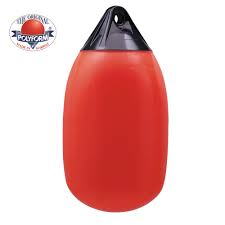buoy: (63, 50, 168, 212)
